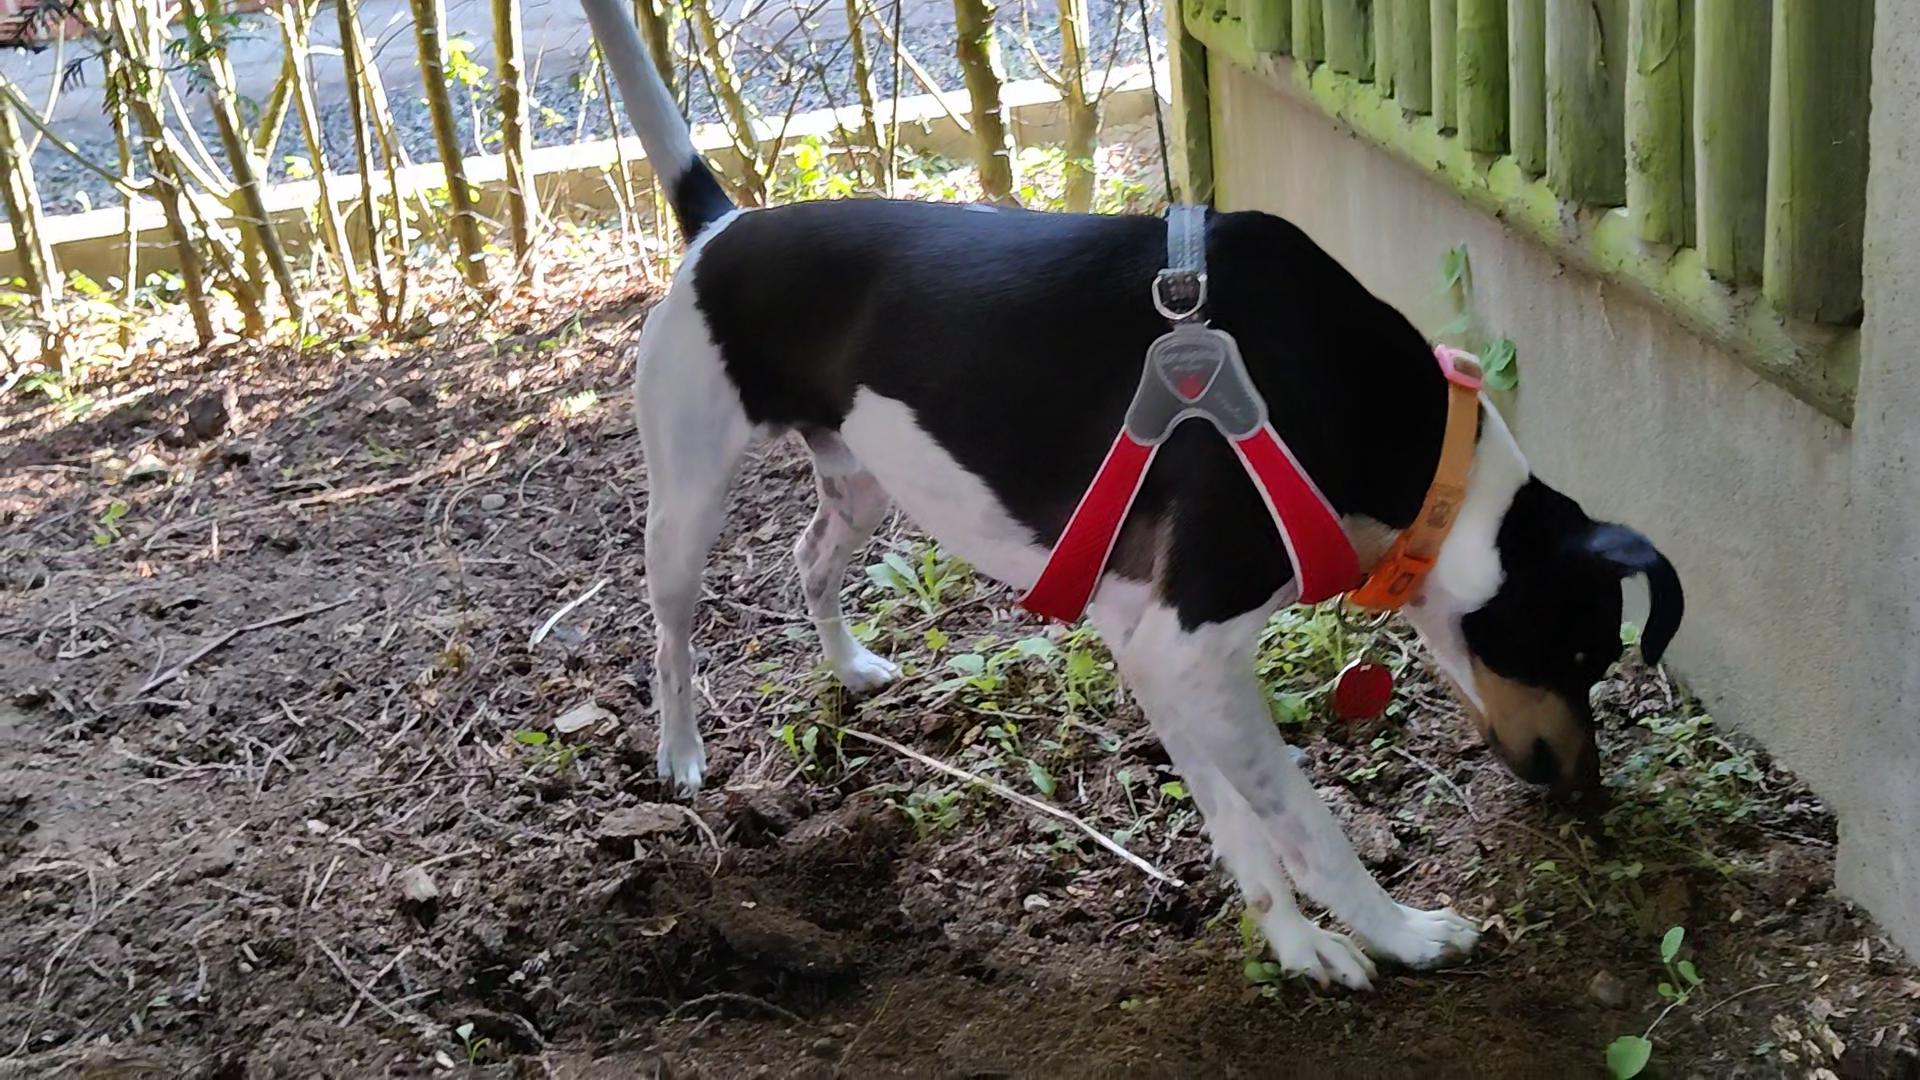Dog: (574, 0, 1700, 997)
